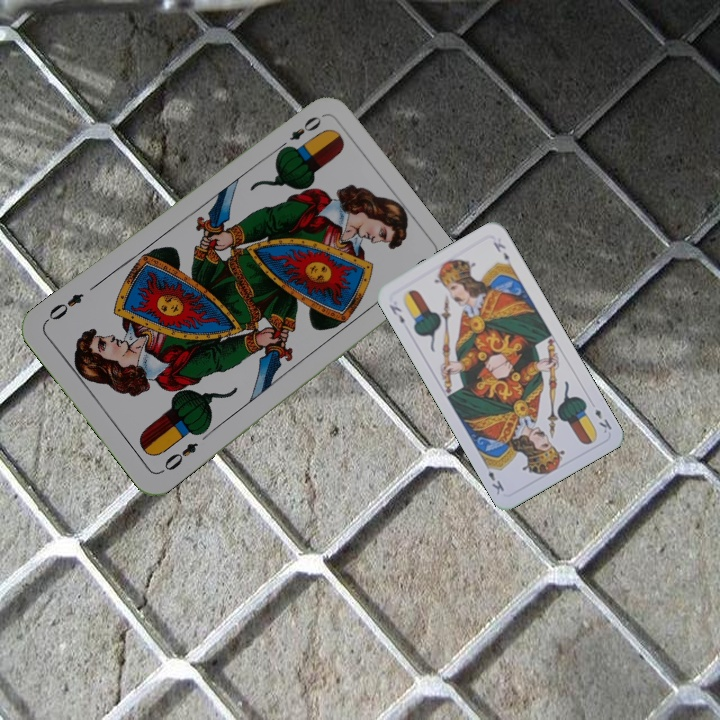EK: (591, 405, 615, 436), (385, 300, 407, 326)
EO: (273, 112, 324, 154), (157, 438, 201, 476)
